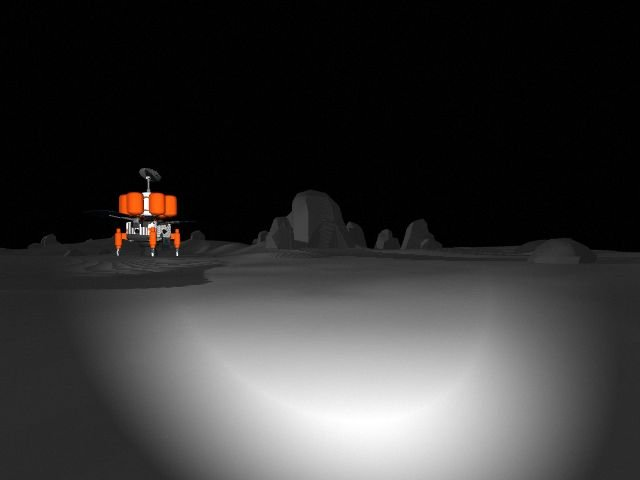homebase: (85, 165, 204, 258)
